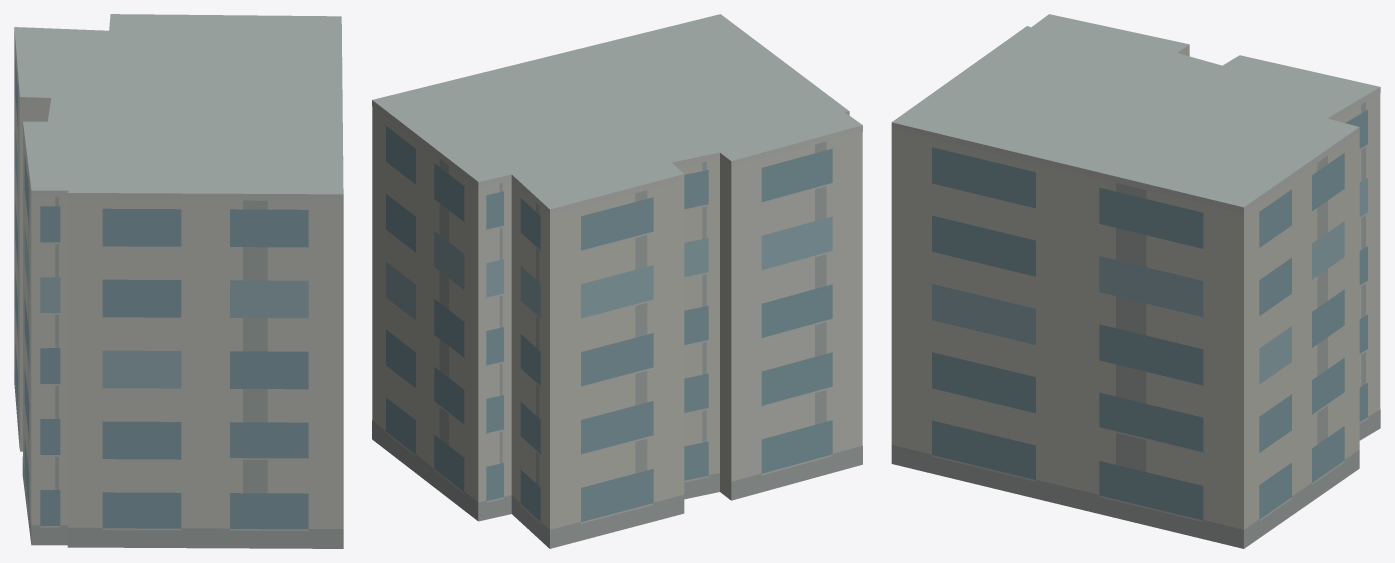
File: survey-upis-32953077.glb
3 renders of one model, left to right at view 1: azimuth 30°, elevation 25°; view 2: azimuth 150°, elevation 25°; view 3: azimuth 270°, elevation 25°, orthographic. The views are drawn at different scales.
Visible parts, largest first — view 1: survey-upis-32953077.tmp; view 2: survey-upis-32953077.tmp; view 3: survey-upis-32953077.tmp.
Part boxes in pixels (bbox=[...]): survey-upis-32953077.tmp: bbox=[14, 14, 343, 548]; survey-upis-32953077.tmp: bbox=[372, 14, 862, 548]; survey-upis-32953077.tmp: bbox=[891, 14, 1380, 548].
Size of the model in its own units: 15.8 by 13 by 16.87.
